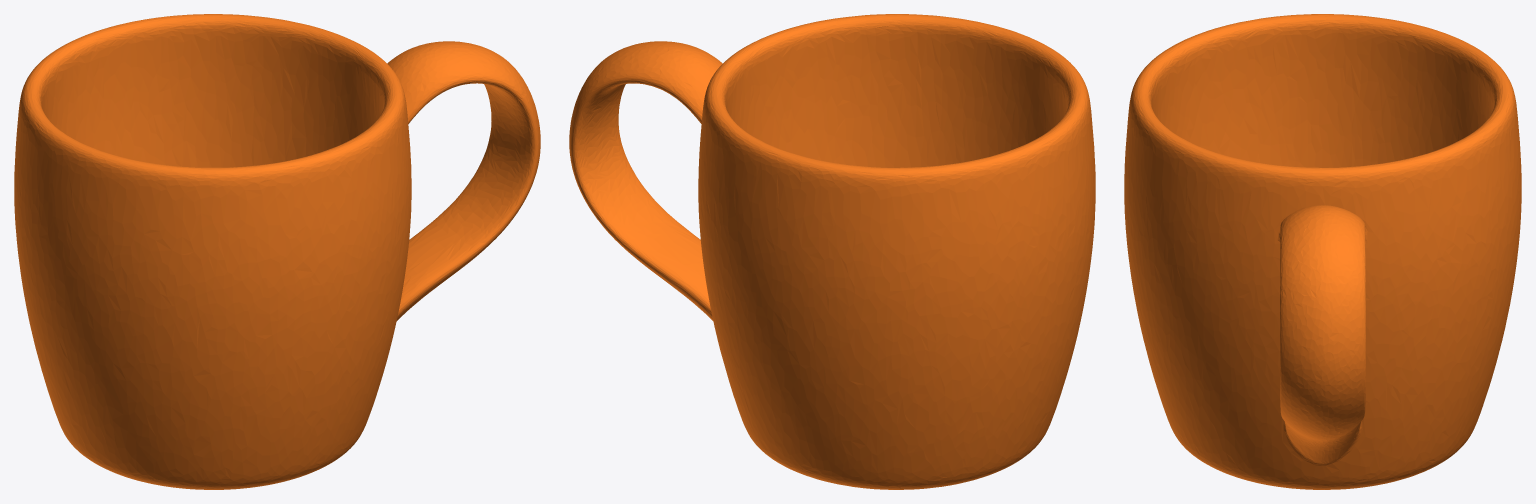
File: Mug.gltf
The picture shows the model from 3 angles, left to right: view 1: azimuth 30°, elevation 25°; view 2: azimuth 150°, elevation 25°; view 3: azimuth 270°, elevation 25°; orthographic projection.
Size of the model in its own units: 0.1499 by 0.0998 by 0.1047.
